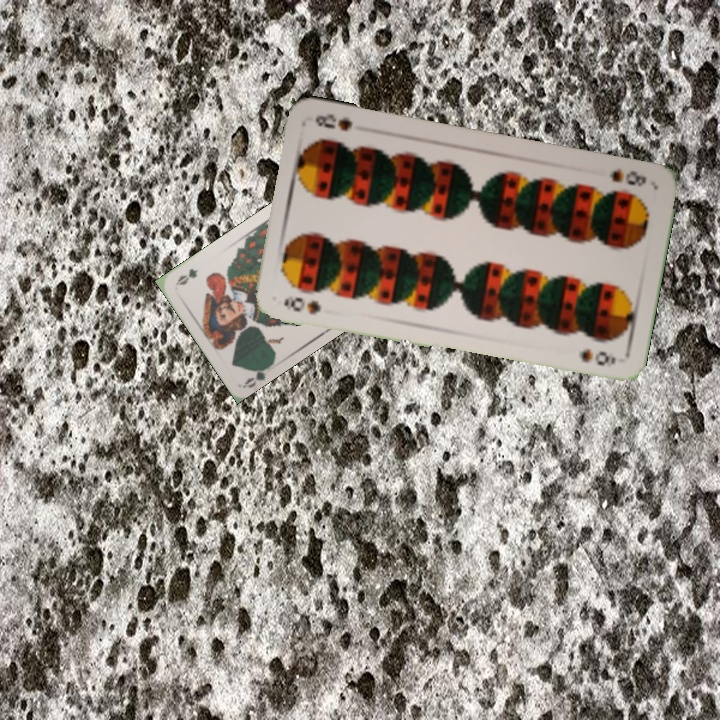GO: (241, 358, 276, 390)
S8: (606, 164, 649, 189), (280, 293, 324, 317)
